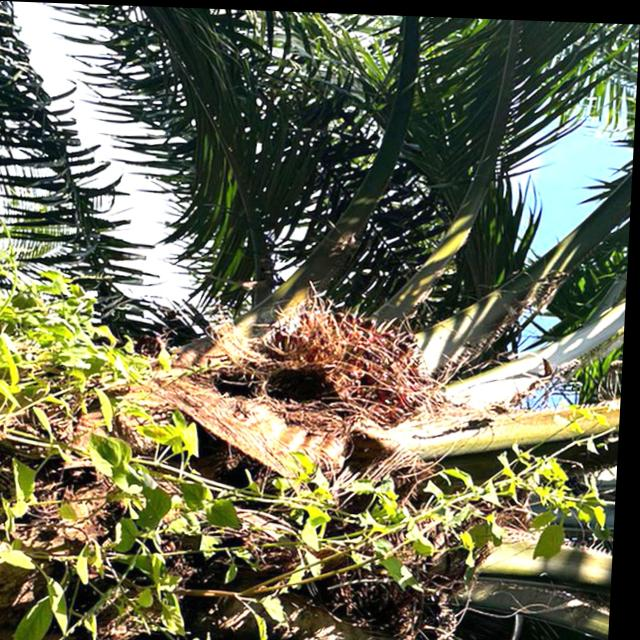almost: (277, 293, 452, 442)
